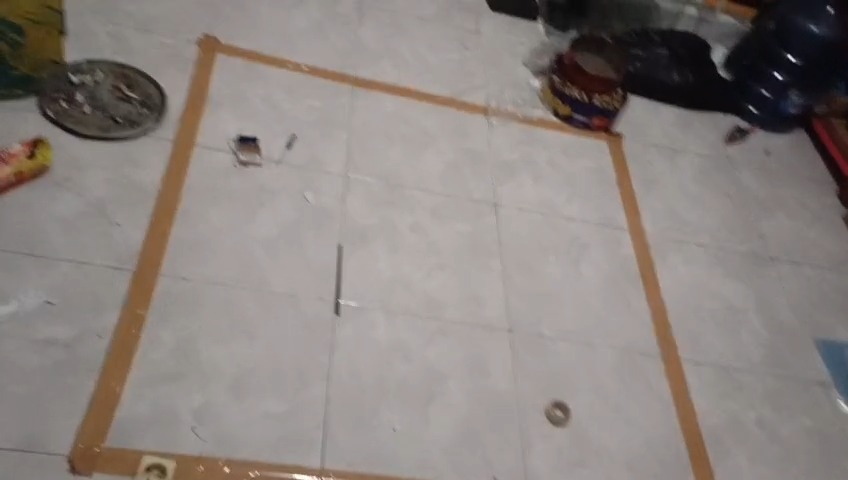floor marking: (69, 34, 713, 479)
